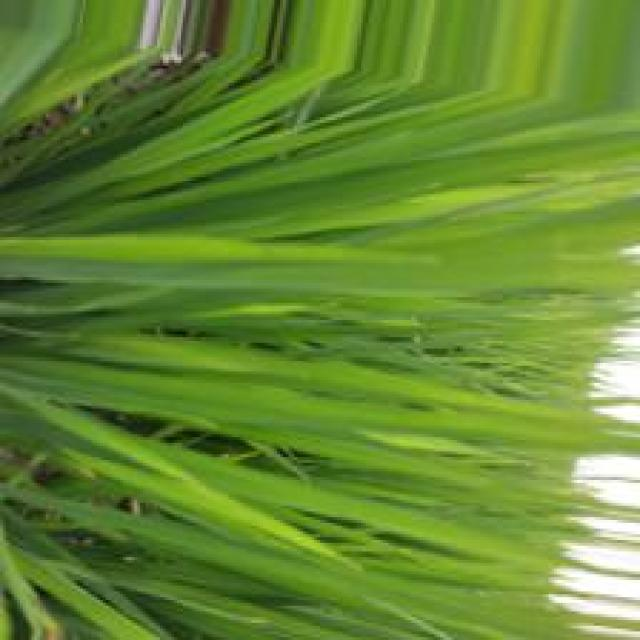HealthyLeaf: (314, 118, 604, 186), (169, 362, 383, 424)
